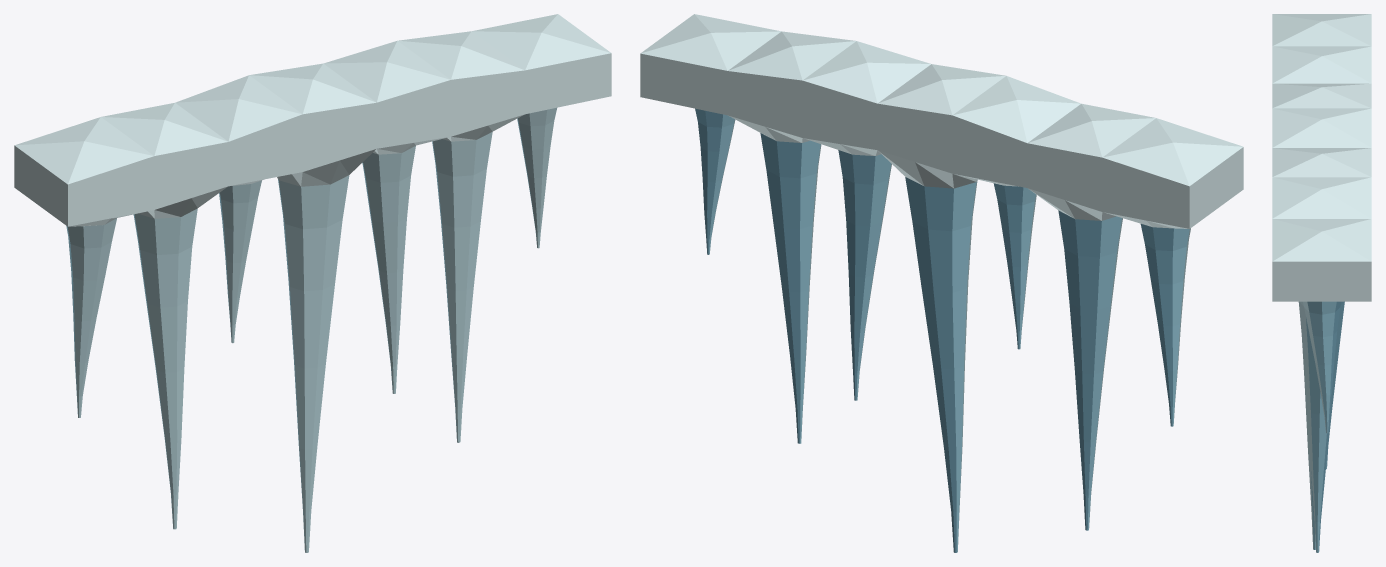
The picture shows the model from 3 angles, left to right: view 1: azimuth 30°, elevation 25°; view 2: azimuth 150°, elevation 25°; view 3: azimuth 270°, elevation 25°; orthographic projection. The views are drawn at different scales.
Parts seen in each view (by area): view 1: Ice_ContinuousLipAndSevenDrips; view 2: Ice_ContinuousLipAndSevenDrips; view 3: Ice_ContinuousLipAndSevenDrips.
Part boxes in pixels (<box>): Ice_ContinuousLipAndSevenDrips: <box>14,14,611,552</box>; Ice_ContinuousLipAndSevenDrips: <box>640,14,1243,552</box>; Ice_ContinuousLipAndSevenDrips: <box>1272,14,1371,552</box>.
Bounding box in the file's own units: 1.32 × 1.08 × 0.225.
